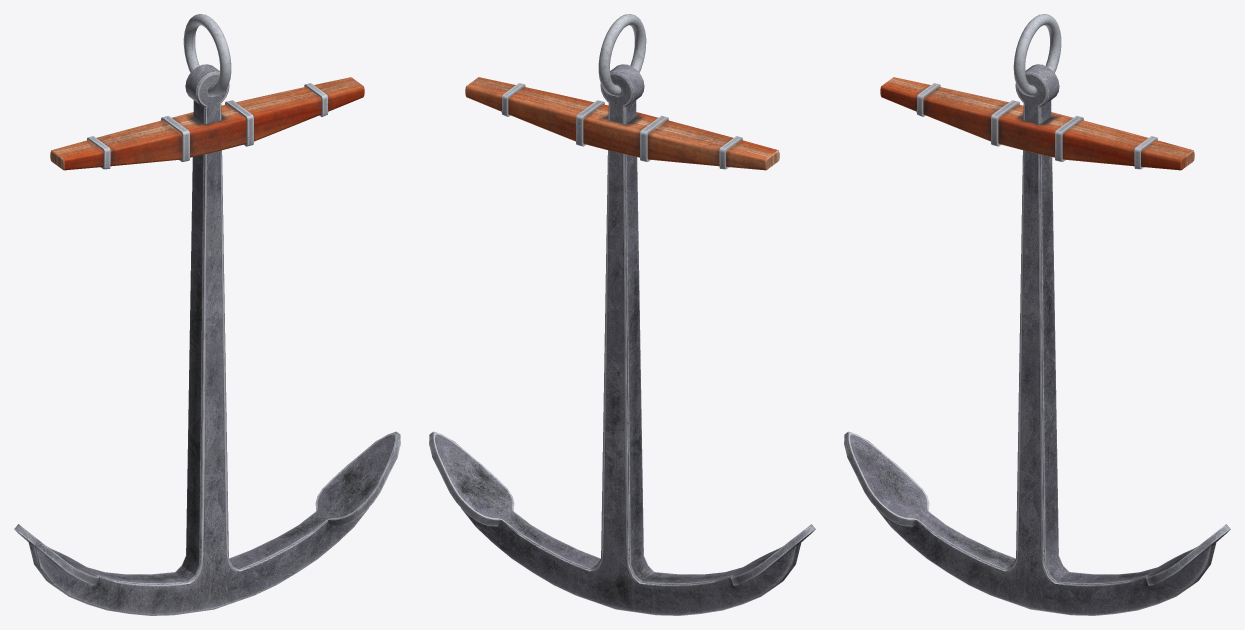
The picture shows the model from 3 angles, left to right: view 1: azimuth 30°, elevation 25°; view 2: azimuth 150°, elevation 25°; view 3: azimuth 330°, elevation 25°; orthographic projection.
Visible parts, largest first — view 1: GO_Node_00, GO_Node_03, GO_Node_02, GO_Node_04, GO_Node_01; view 2: GO_Node_00, GO_Node_03, GO_Node_02, GO_Node_04, GO_Node_01; view 3: GO_Node_00, GO_Node_03, GO_Node_04, GO_Node_02, GO_Node_01.
Boxes of the visible parts, x1,y1,x2,y2 form: GO_Node_00: (50,14,364,178); GO_Node_03: (179,431,400,611); GO_Node_02: (186,326,228,527); GO_Node_04: (14,524,197,615); GO_Node_01: (190,170,224,335); GO_Node_00: (465,14,779,178); GO_Node_03: (429,431,650,611); GO_Node_02: (601,326,643,527); GO_Node_04: (632,524,815,615); GO_Node_01: (605,170,639,335); GO_Node_00: (880,14,1194,174); GO_Node_03: (1008,511,1230,615); GO_Node_04: (844,431,1015,603); GO_Node_02: (1016,322,1058,521); GO_Node_01: (1020,166,1054,331).
Size of the model in its own units: 1218 by 1771 by 229.
